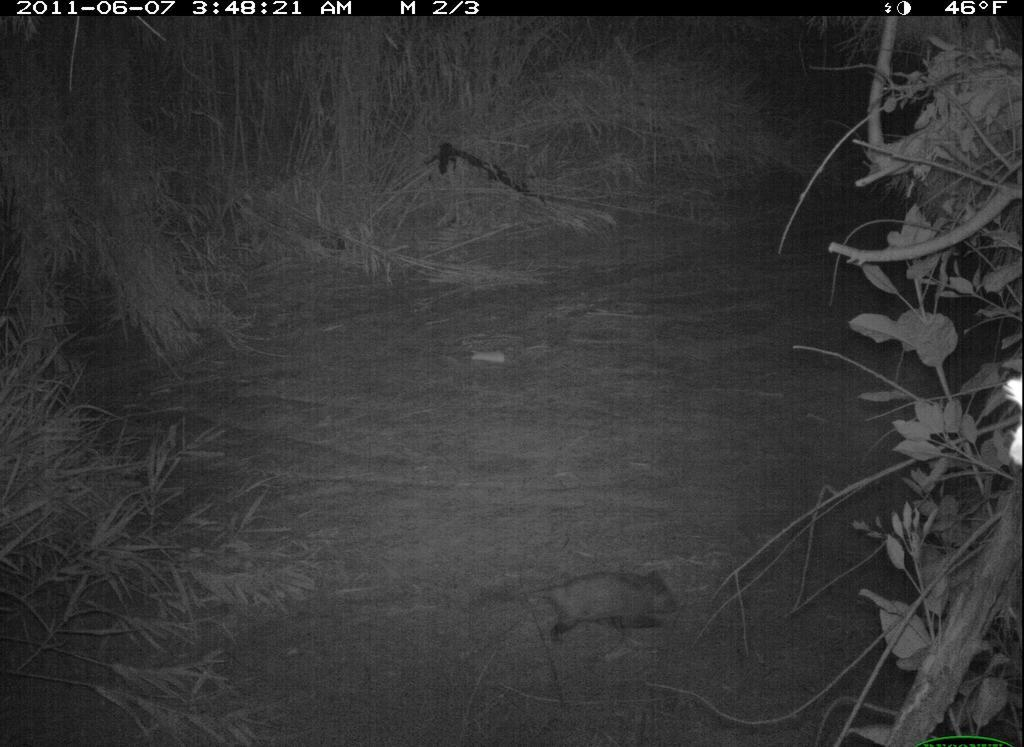opossum: (495, 557, 687, 657)
